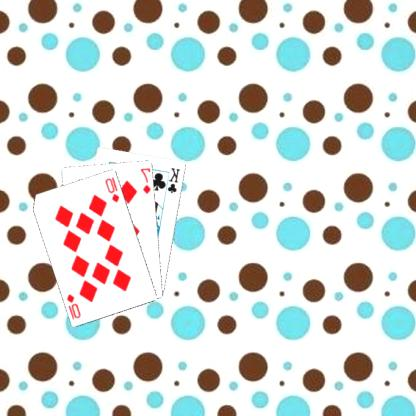10D: (104, 174, 123, 204), (66, 291, 84, 321)
7D: (140, 165, 154, 195)
KC: (163, 165, 183, 196)
